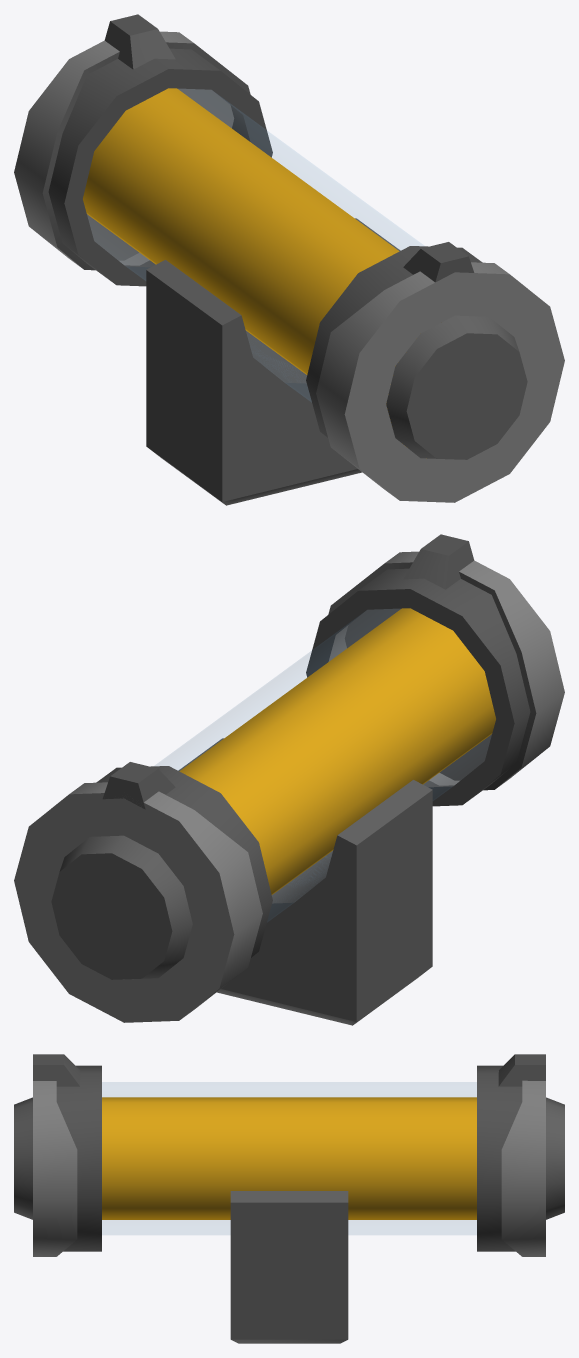
File: Liquid_AnyColor_Pipe.fbx
The picture shows the model from 3 angles, top to bottom: view 1: azimuth 30°, elevation 25°; view 2: azimuth 150°, elevation 25°; view 3: azimuth 270°, elevation 25°; orthographic projection. The views are drawn at different scales.
Visible parts, largest first — view 1: Liquid_AnyColor_Pipe; view 2: Liquid_AnyColor_Pipe; view 3: Liquid_AnyColor_Pipe.
Part boxes in pixels (left/top/right/bottom): Liquid_AnyColor_Pipe: left=14, top=14, right=564, bottom=505; Liquid_AnyColor_Pipe: left=14, top=534, right=564, bottom=1025; Liquid_AnyColor_Pipe: left=14, top=1054, right=564, bottom=1343.
Bounding box in the file's own units: 76.91 × 107 × 215.
